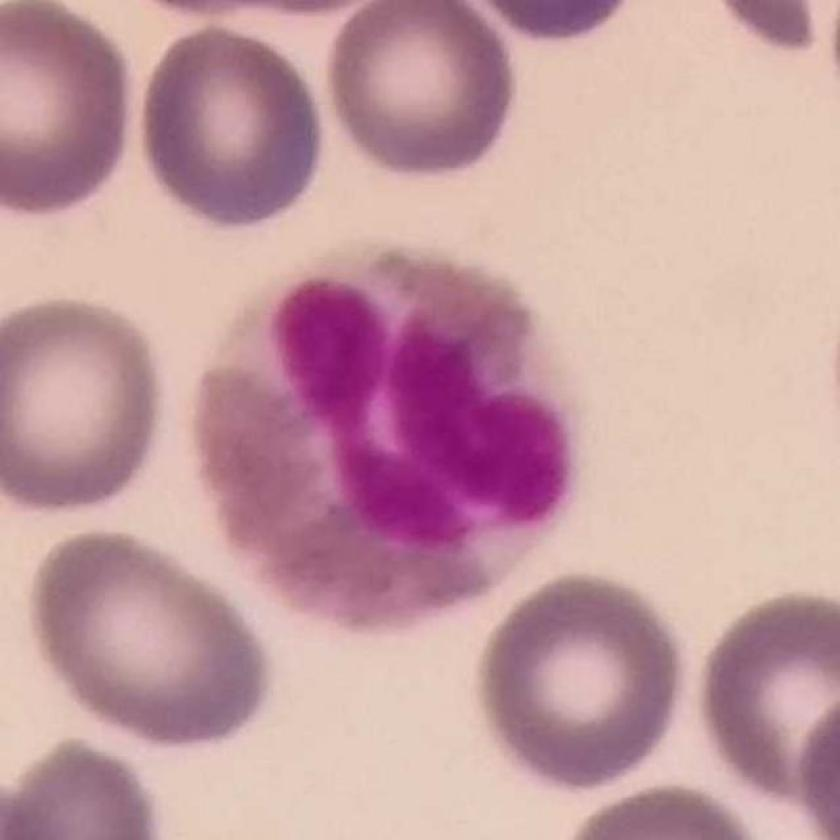eosinophil: (190, 244, 581, 638)
